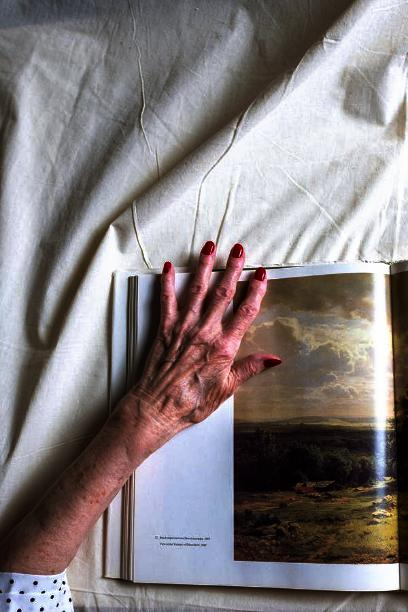Paper: (141, 234, 282, 434)
